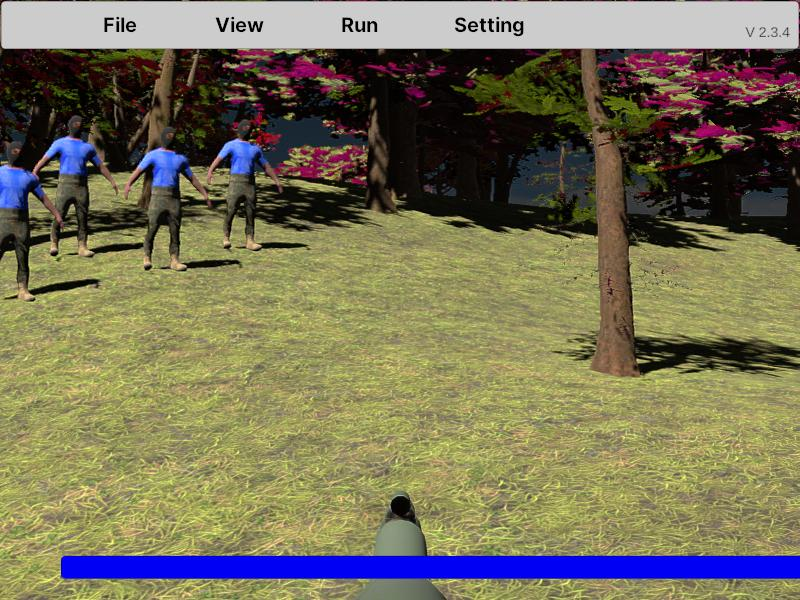Human: (28, 114, 118, 259), (123, 125, 210, 273), (0, 137, 63, 303), (206, 119, 282, 253)
